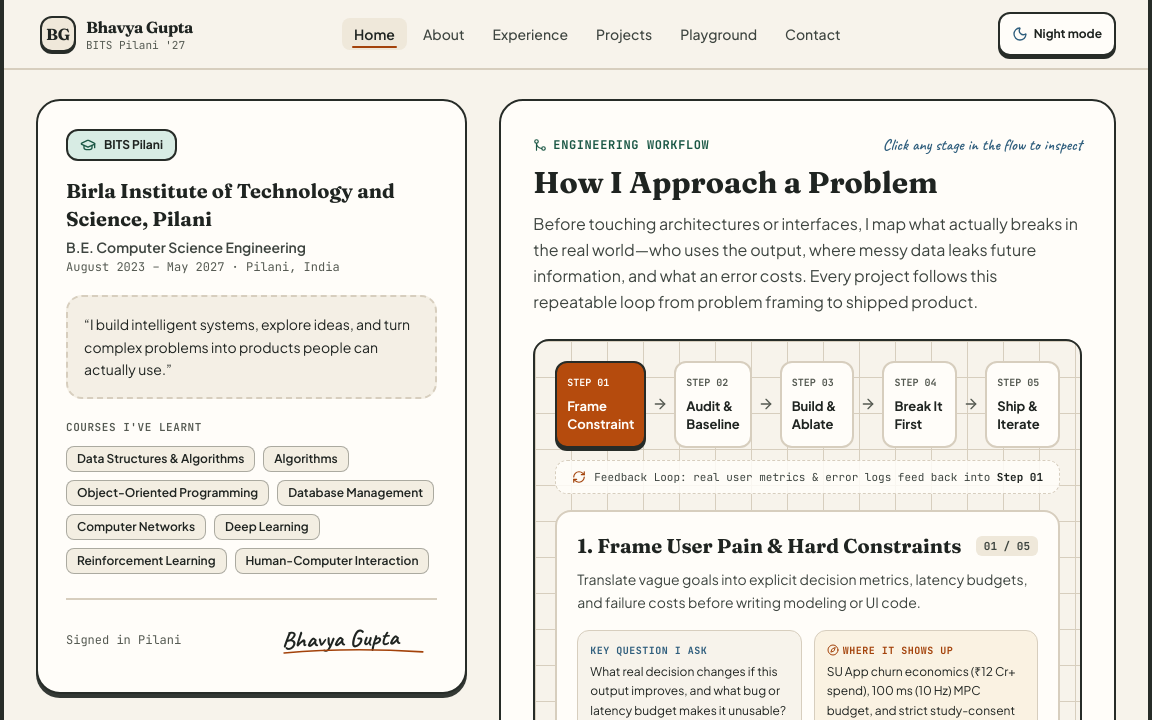
Test: Bhavya Gupta Portfolio › renders verified identity, hero copy, and navigation links
Expected: the text "Courses I've Learnt" is shown, [66,420,202,434]
Expected: the text "Human-Computer Interaction" is shown, [234,548,429,574]
What coordinates should you click on to do the following:
click the button "Step 03 Build & Ablate"
I would click on:
 (817, 404)
Its box is [780,361,854,448].
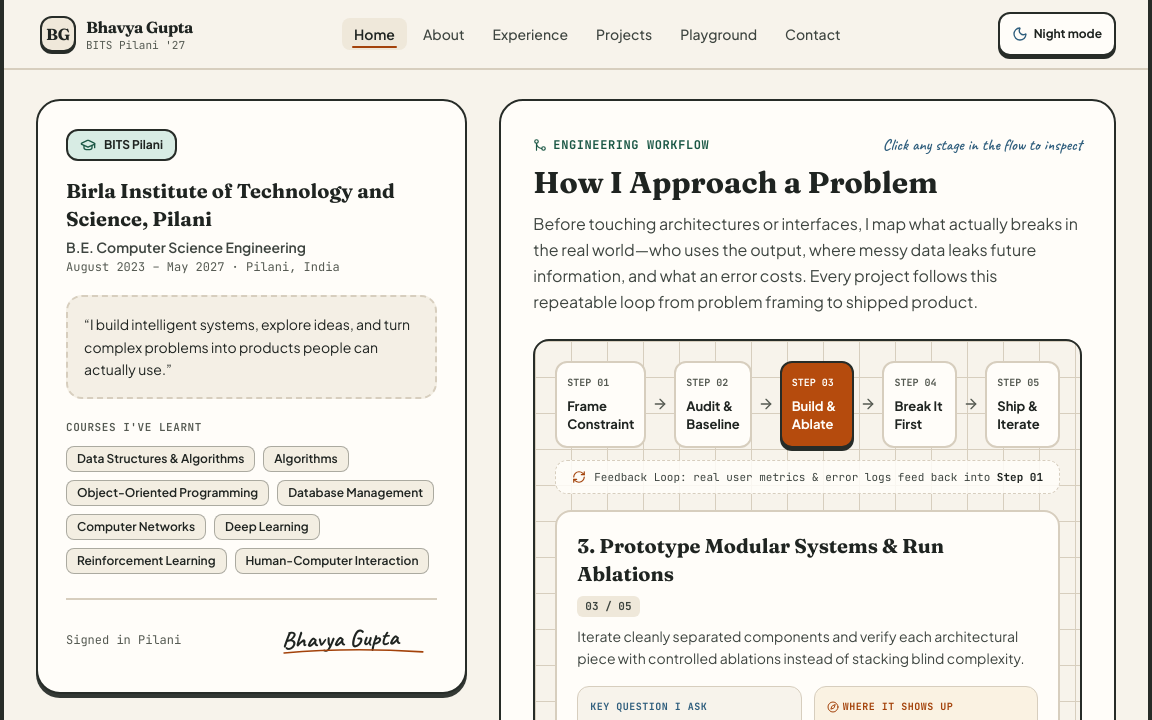
Now the heading "3. Prototype Modular Systems & Run Ablations" is shown, box [577,533,944,586]
